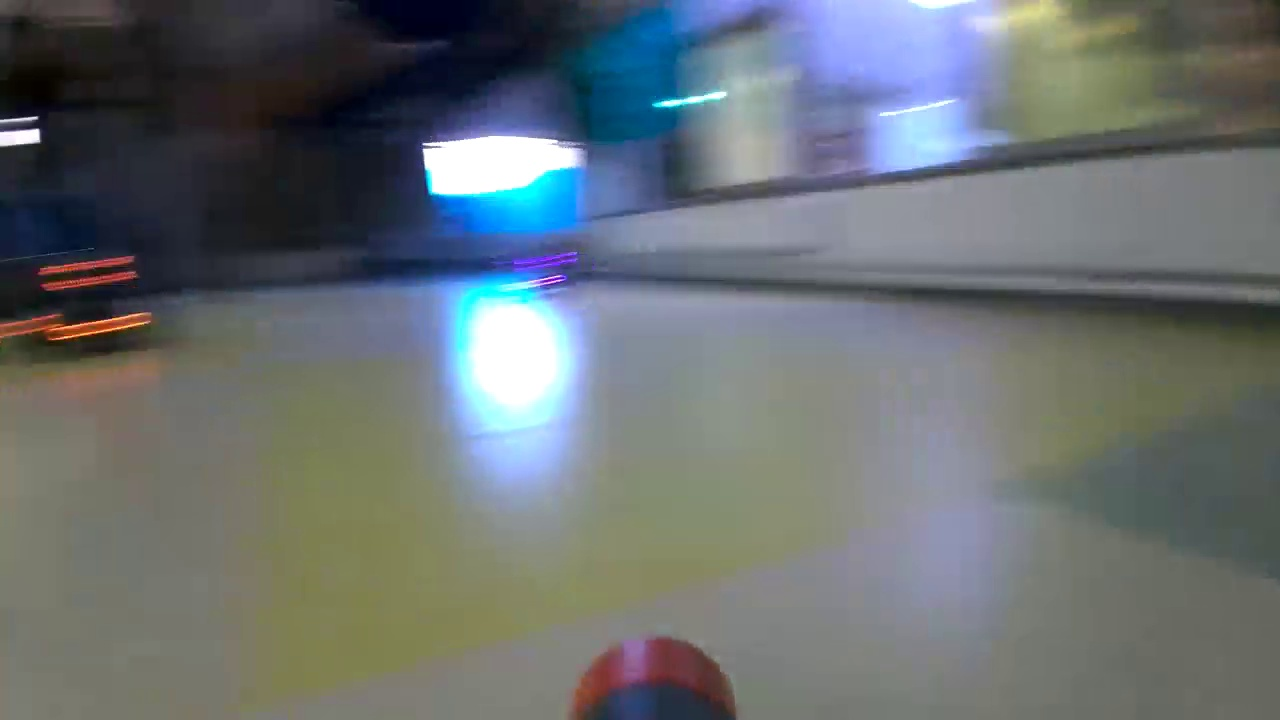robot: (1, 241, 156, 358), (501, 246, 594, 300)
